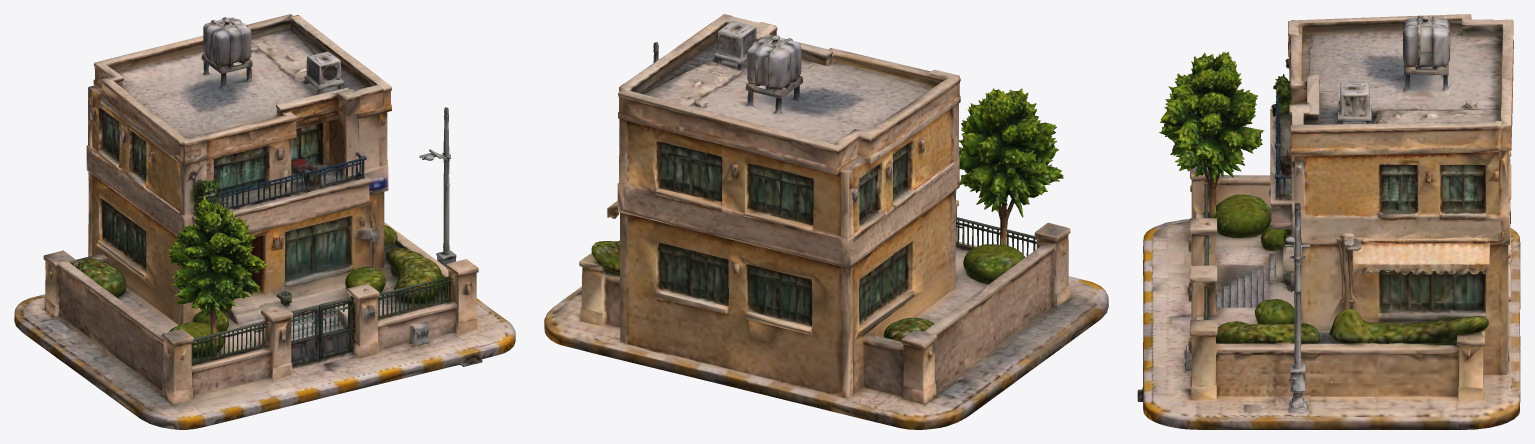
The model's file is brikme-house.glb.
The picture shows the model from 3 angles, left to right: view 1: azimuth 30°, elevation 25°; view 2: azimuth 150°, elevation 25°; view 3: azimuth 270°, elevation 25°; orthographic projection. The views are drawn at different scales.
Visible parts, largest first — view 1: car; view 2: car; view 3: car.
Boxes of the visible parts, box(x1,y1,x2,y2) form: car: box(14, 14, 515, 429); car: box(544, 14, 1108, 429); car: box(1137, 14, 1520, 429).
Bounding box in the file's own units: 0.9797 × 0.7158 × 0.7843.
Materials: 1 (1 with a texture image).
